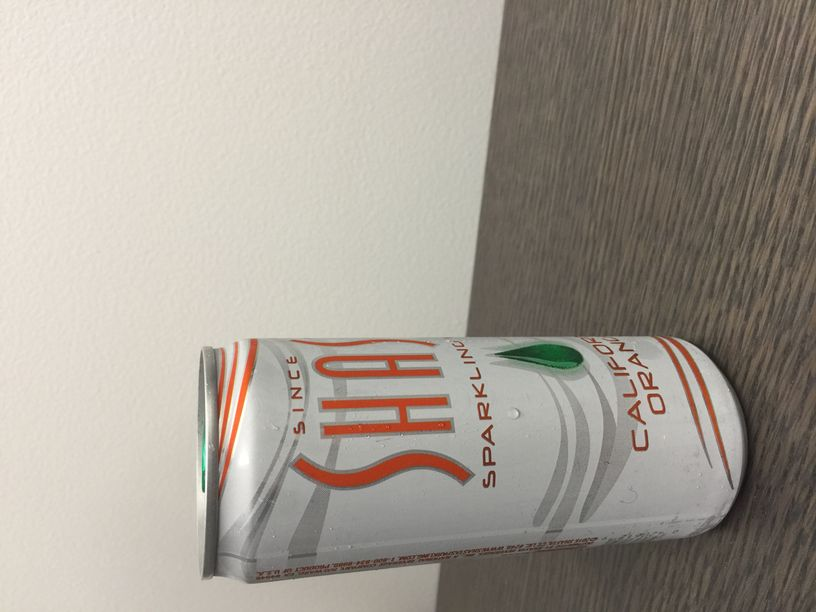competitor_01: (195, 336, 749, 585)
